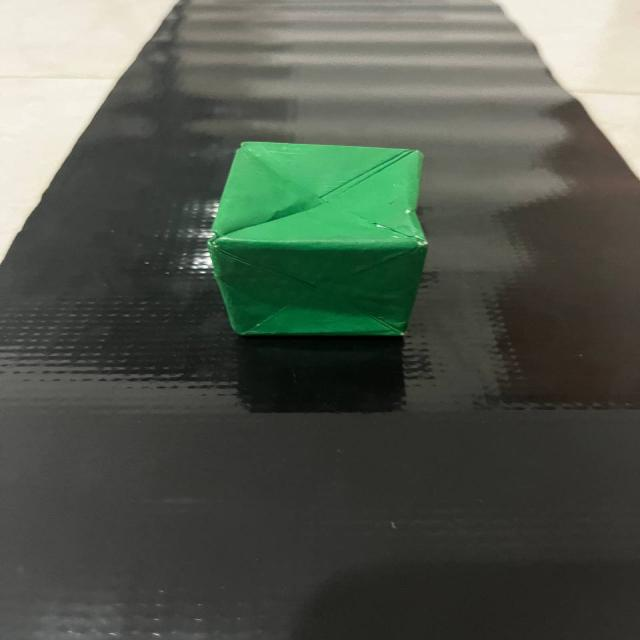Verde: (192, 118, 449, 355)
